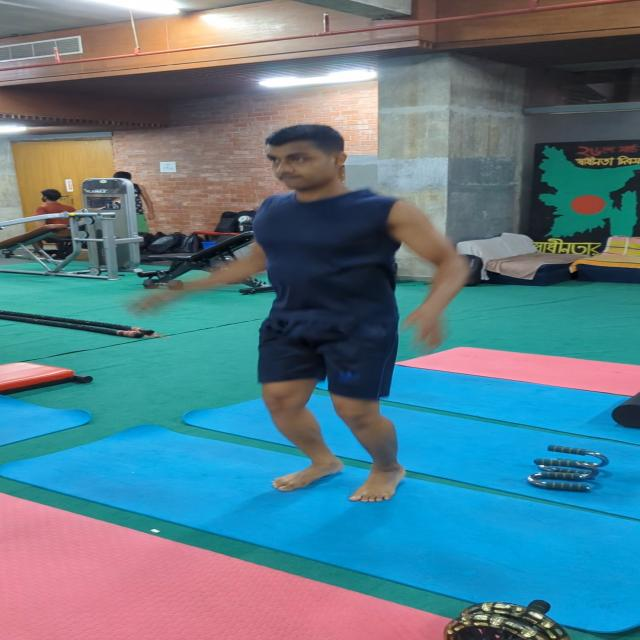Normal_JumpingJacks: (116, 120, 498, 516)
